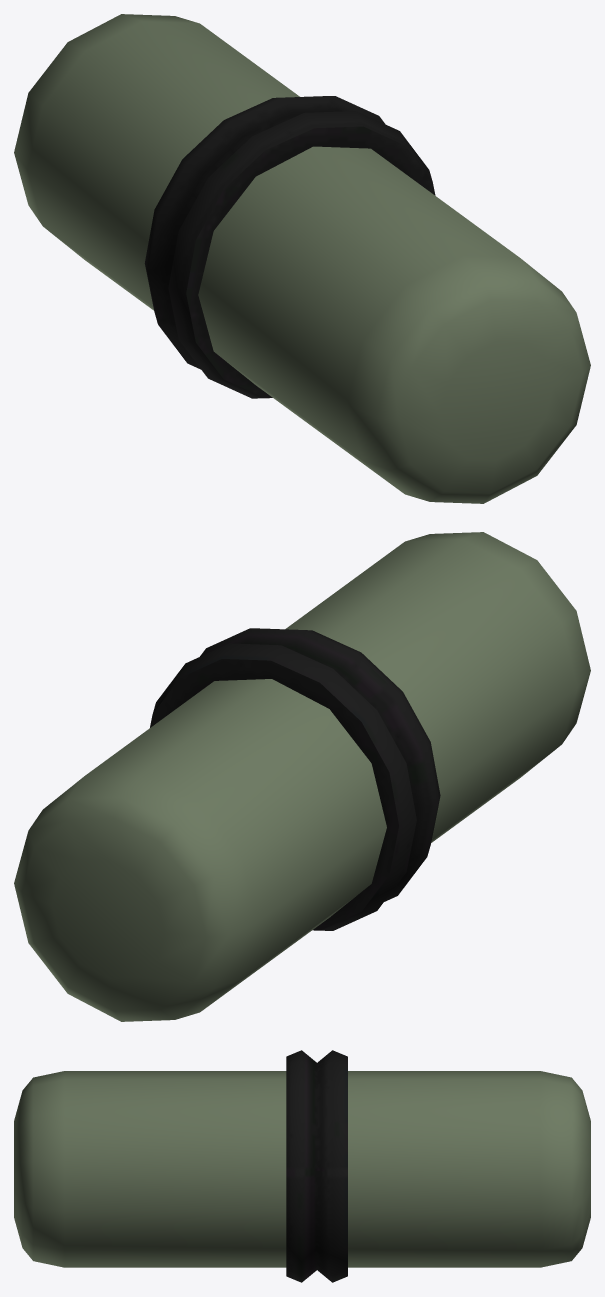
The model's file is blackbox_device.DAE.
3 views of the same model, one above another, from view 1: azimuth 30°, elevation 25°; view 2: azimuth 150°, elevation 25°; view 3: azimuth 270°, elevation 25° (orthographic). The views are drawn at different scales.
Visible parts, largest first — view 1: Object003, Box015; view 2: Object003, Box015; view 3: Object003, Box015.
Part boxes in pixels (x1,y1,x2,y2): Object003: (14, 14, 590, 503); Box015: (144, 96, 435, 398); Object003: (14, 532, 590, 1021); Box015: (150, 628, 440, 930); Object003: (14, 1071, 590, 1267); Box015: (286, 1050, 347, 1282).
Size of the model in its own units: 0.0734 by 0.0734 by 0.182.
